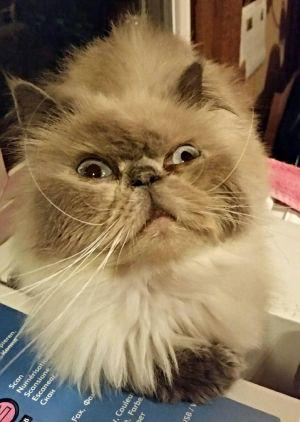persian: (1, 50, 257, 267)
